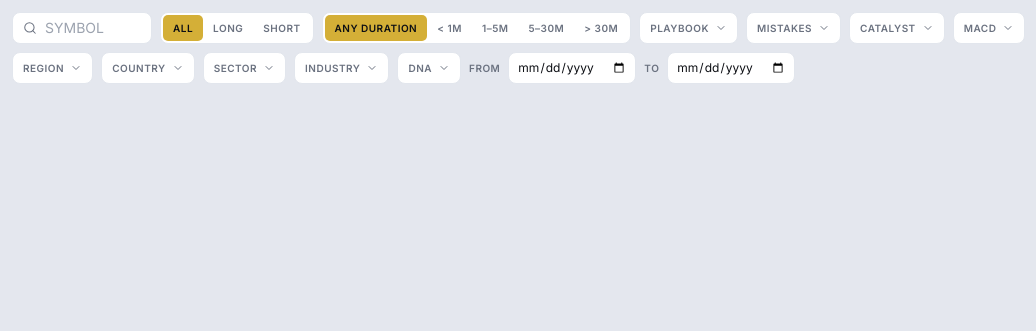
Test: F11 the score row is exactly as tall as the ceiling › renders exactly SCORE_CEILING buttons
Click the button titled "Filter by DNA score" at coordinates (429, 68), box [397,52,461,84]
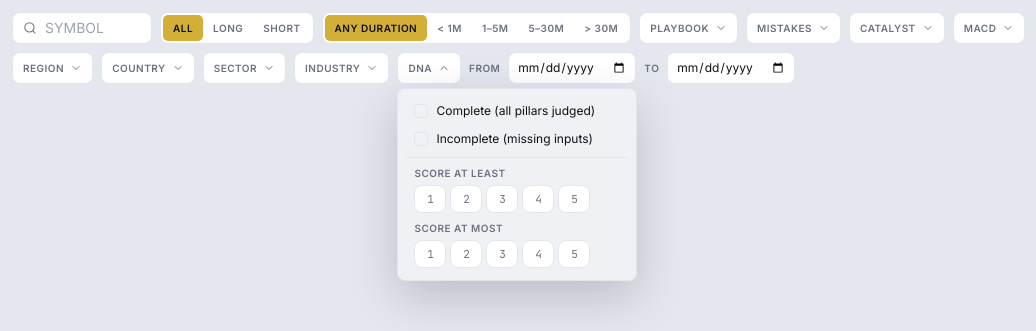
Check: the number of buttons labelled "1" is 5, box [414,185,446,213]; [450,185,482,213]; [486,185,518,213]; [522,185,554,213]; [558,185,590,213]
